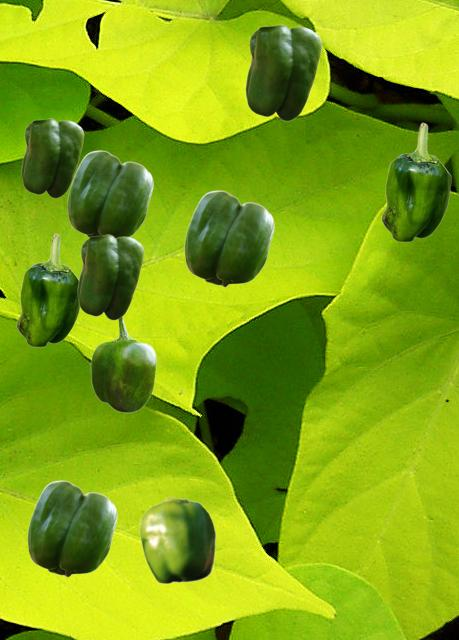bell_pepper: (27, 480, 116, 576), (184, 190, 273, 286), (381, 122, 450, 241), (67, 150, 152, 237), (245, 24, 321, 120), (16, 233, 79, 346), (139, 496, 215, 583), (90, 317, 156, 412), (77, 234, 143, 319), (21, 118, 83, 197)
